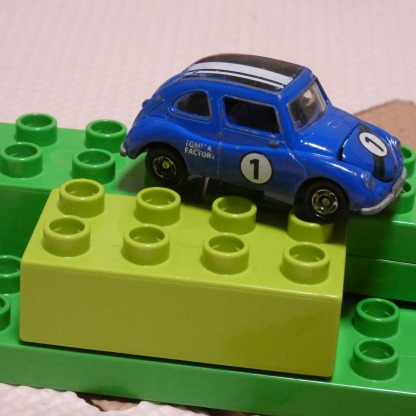car: (121, 51, 405, 220)
